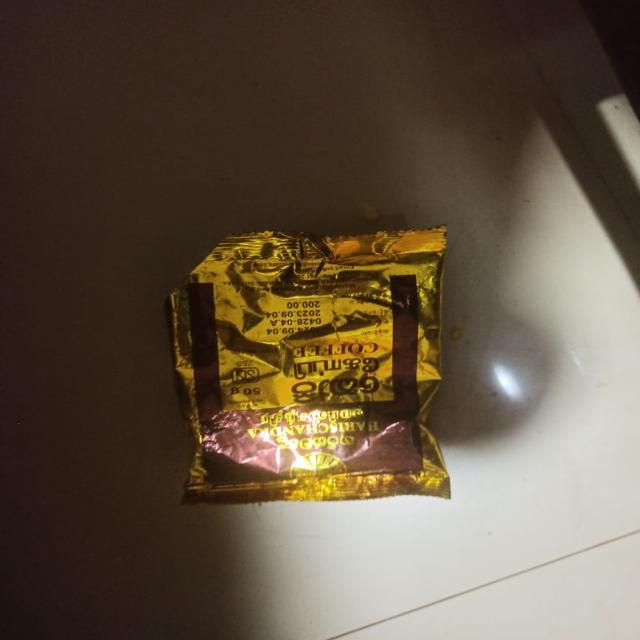Harischandra Coffee: (142, 194, 472, 489)
